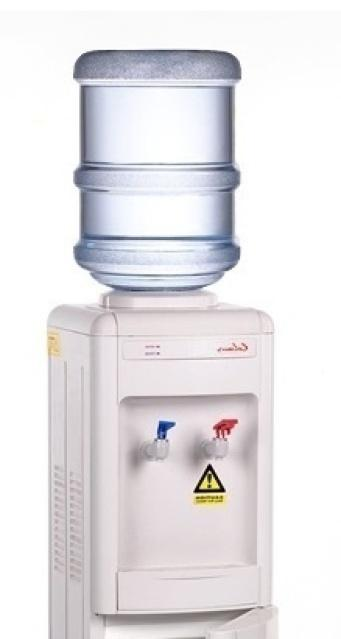Dispenser: (45, 49, 273, 638)
